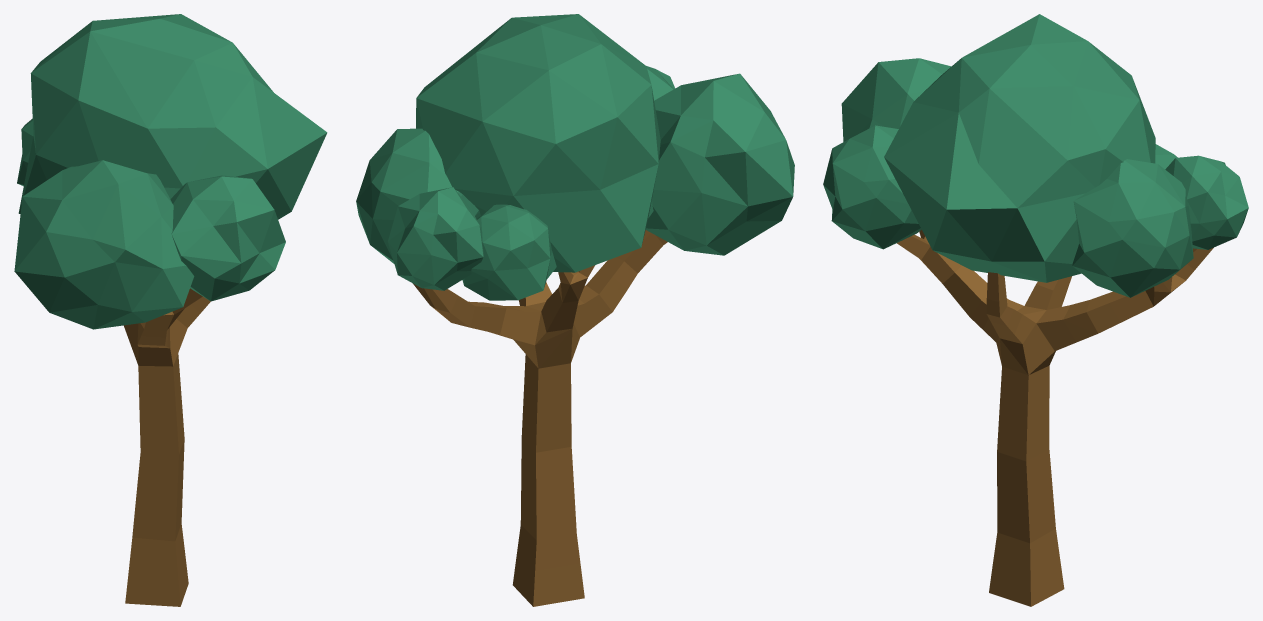
Rendered from tree4.glb.
3 views of the same model, side by side, from view 1: azimuth 30°, elevation 25°; view 2: azimuth 150°, elevation 25°; view 3: azimuth 270°, elevation 25° (orthographic). The views are drawn at different scales.
Visible parts, largest first — view 1: Object_8.004; view 2: Object_8.004; view 3: Object_8.004.
Boxes of the visible parts, left/top/right/bottom form: Object_8.004: left=14, top=14, right=327, bottom=606; Object_8.004: left=356, top=14, right=794, bottom=606; Object_8.004: left=823, top=14, right=1248, bottom=606.
Size of the model in its own units: 0.6442 by 1.09 by 0.7643.
